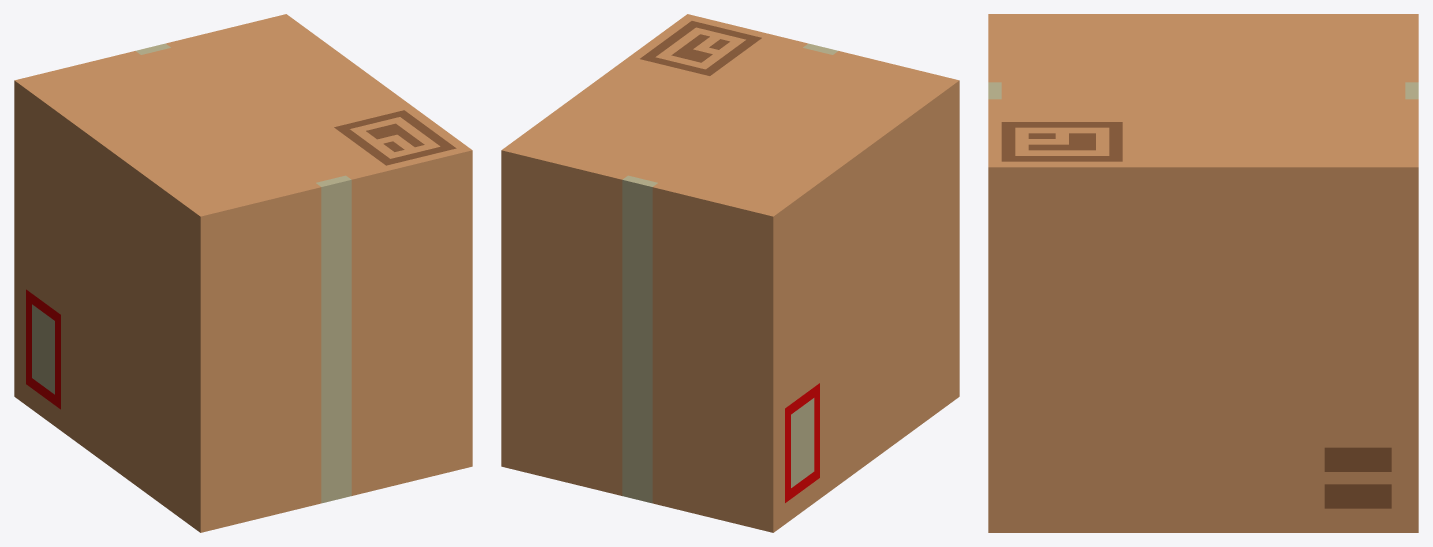
Rendered from BoxBrown.obj.
3 renders of one model, left to right at view 1: azimuth 30°, elevation 25°; view 2: azimuth 150°, elevation 25°; view 3: azimuth 270°, elevation 25°, orthographic. The views are drawn at different scales.
Visible parts, largest first — view 1: Untitled.063; view 2: Untitled.063; view 3: Untitled.063.
Boxes of the visible parts, <box> form: Untitled.063: <box>14,14,472,532</box>; Untitled.063: <box>501,14,959,532</box>; Untitled.063: <box>988,14,1418,532</box>.
Size of the model in its own units: 2.7 by 3 by 3.2.
Materials: 1 (1 with a texture image).
